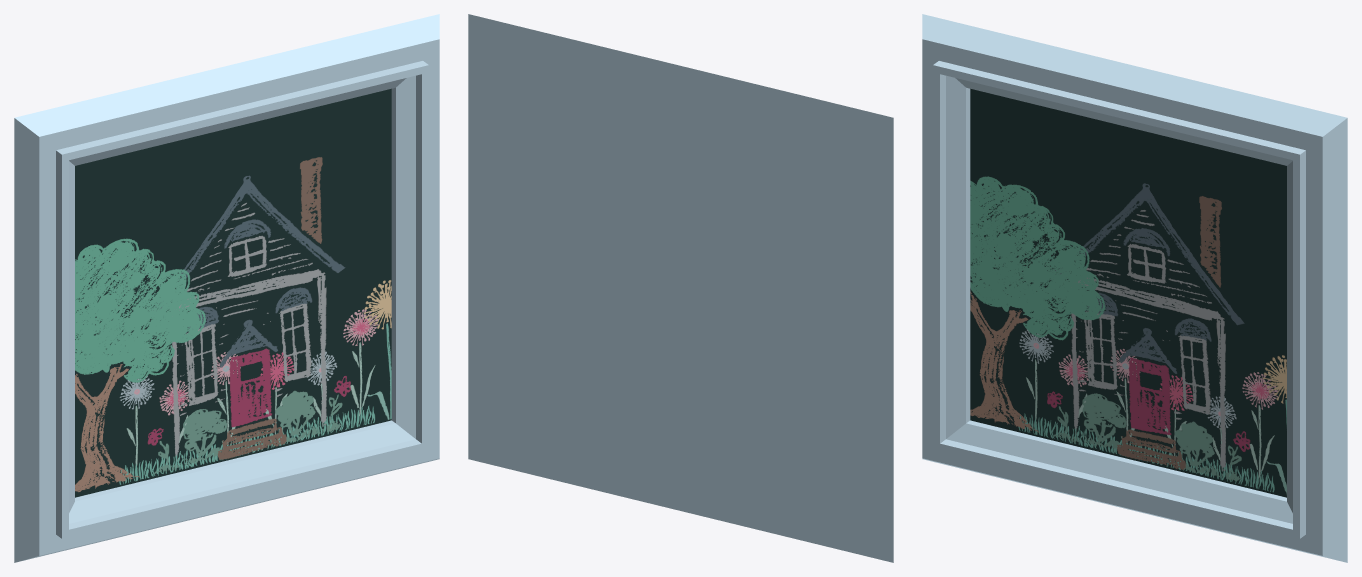
File: cerceve1.fbx
The picture shows the model from 3 angles, left to right: view 1: azimuth 30°, elevation 25°; view 2: azimuth 150°, elevation 25°; view 3: azimuth 330°, elevation 25°; orthographic projection.
Parts seen in each view (by area): view 1: Cube.039; view 2: Cube.039; view 3: Cube.039.
Part boxes in pixels (box(x1,y1,x2,y2)): Cube.039: box(14, 14, 439, 562); Cube.039: box(468, 14, 893, 562); Cube.039: box(922, 14, 1347, 562).
Size of the model in its own units: 138 by 10.36 by 138.
